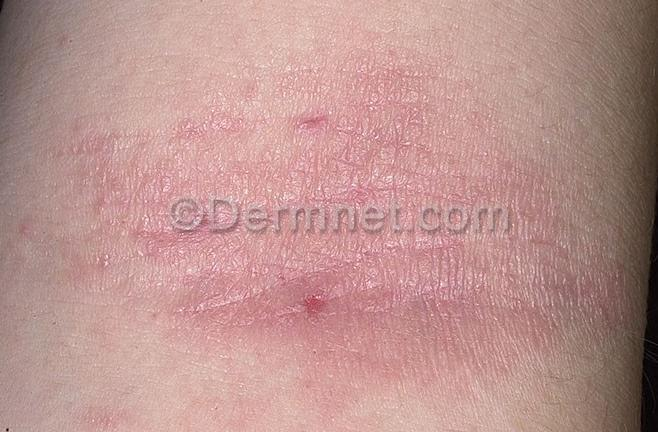eritema 1: (54, 49, 621, 385)
exudacion 1: (299, 292, 329, 319)
